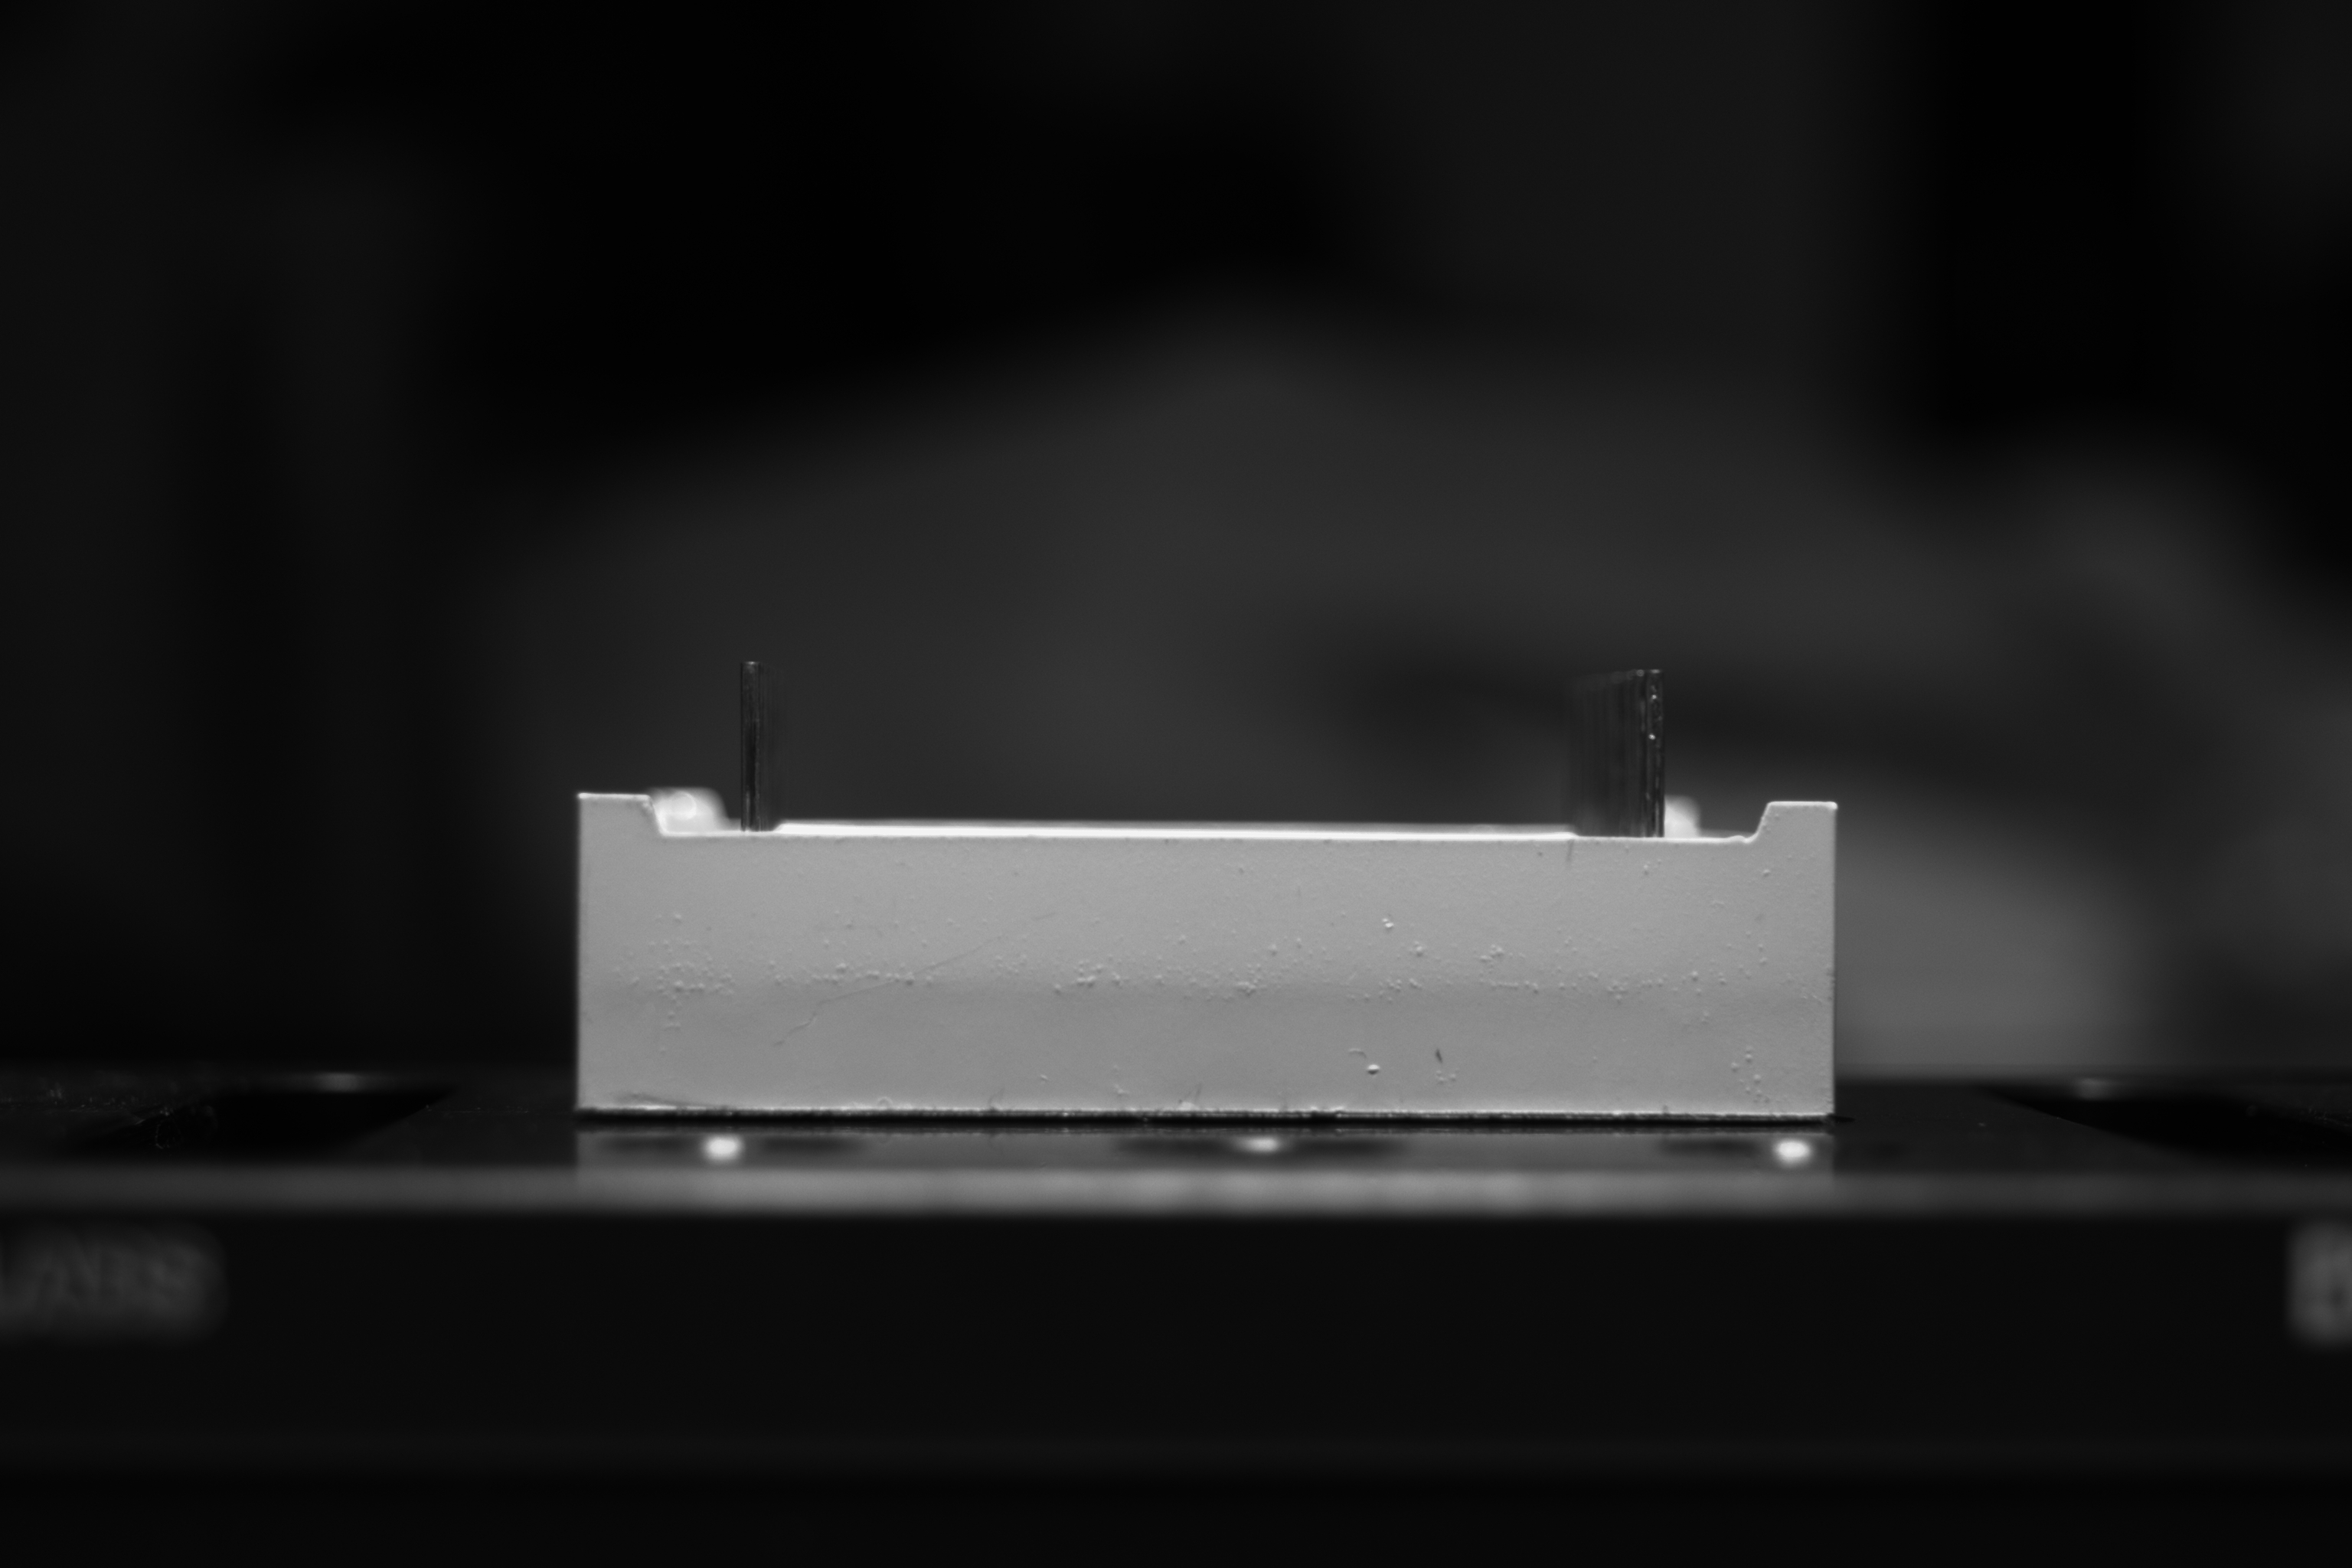glue: (808, 955, 938, 990), (1066, 954, 1127, 994), (1729, 1045, 1769, 1099), (1477, 936, 1512, 966), (1683, 964, 1710, 999), (1232, 980, 1258, 997), (1410, 940, 1431, 961), (1379, 915, 1396, 933), (668, 976, 686, 994), (1365, 1060, 1382, 1076)
